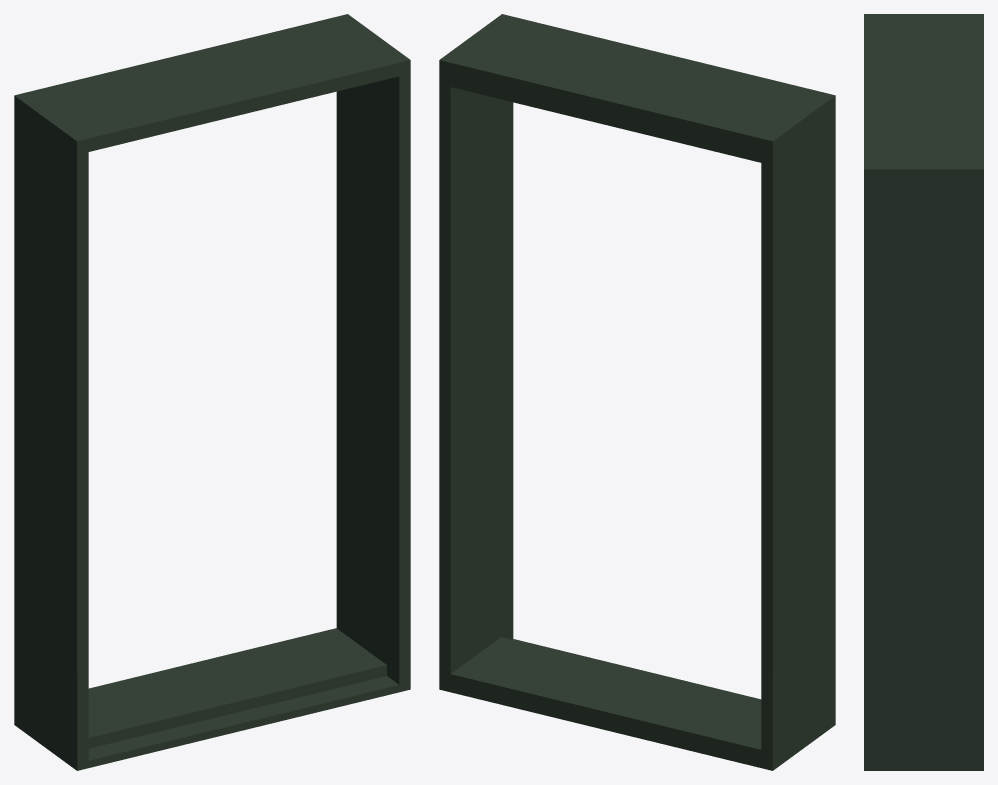
The model's file is Itr_Doorframe_05.FBX.
3 renders of one model, left to right at view 1: azimuth 30°, elevation 25°; view 2: azimuth 150°, elevation 25°; view 3: azimuth 270°, elevation 25°, orthographic. The views are drawn at different scales.
Visible parts, largest first — view 1: Itr_Doorframe_05; view 2: Itr_Doorframe_05; view 3: Itr_Doorframe_05.
Part boxes in pixels (x1=…): Itr_Doorframe_05: x1=14, y1=14, x2=410, y2=770; Itr_Doorframe_05: x1=439, y1=14, x2=835, y2=770; Itr_Doorframe_05: x1=864, y1=14, x2=983, y2=770.
Size of the model in its own units: 46.95 by 84.65 by 15.3.
